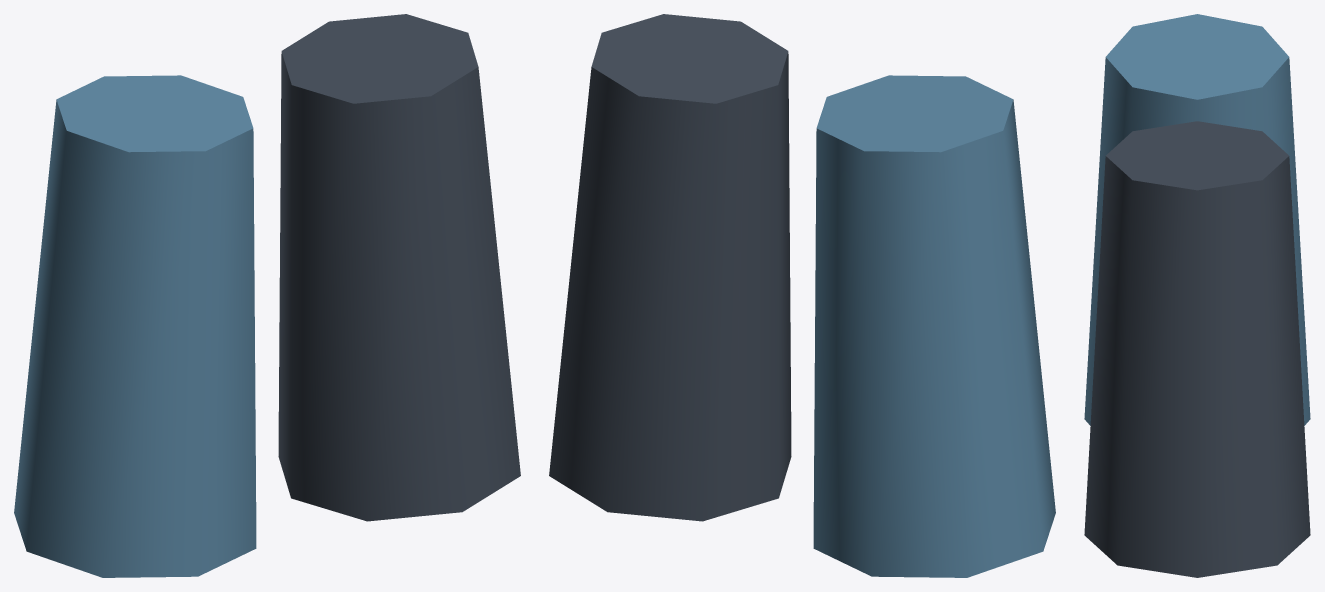
File: legs.glb
3 renders of one model, left to right at view 1: azimuth 30°, elevation 25°; view 2: azimuth 150°, elevation 25°; view 3: azimuth 270°, elevation 25°, orthographic. The views are drawn at different scales.
Parts seen in each view (by area): view 1: greave_-1, greave_1; view 2: greave_-1, greave_1; view 3: greave_1, greave_-1.
Boxes of the visible parts, x1=… form: greave_-1: x1=14, y1=75, x2=256, y2=577; greave_1: x1=278, y1=14, x2=520, y2=521; greave_-1: x1=813, y1=75, x2=1055, y2=577; greave_1: x1=549, y1=14, x2=791, y2=521; greave_1: x1=1084, y1=121, x2=1310, y2=577; greave_-1: x1=1084, y1=14, x2=1310, y2=425.
Size of the model in its own units: 0.7086 by 0.5938 by 0.32.
